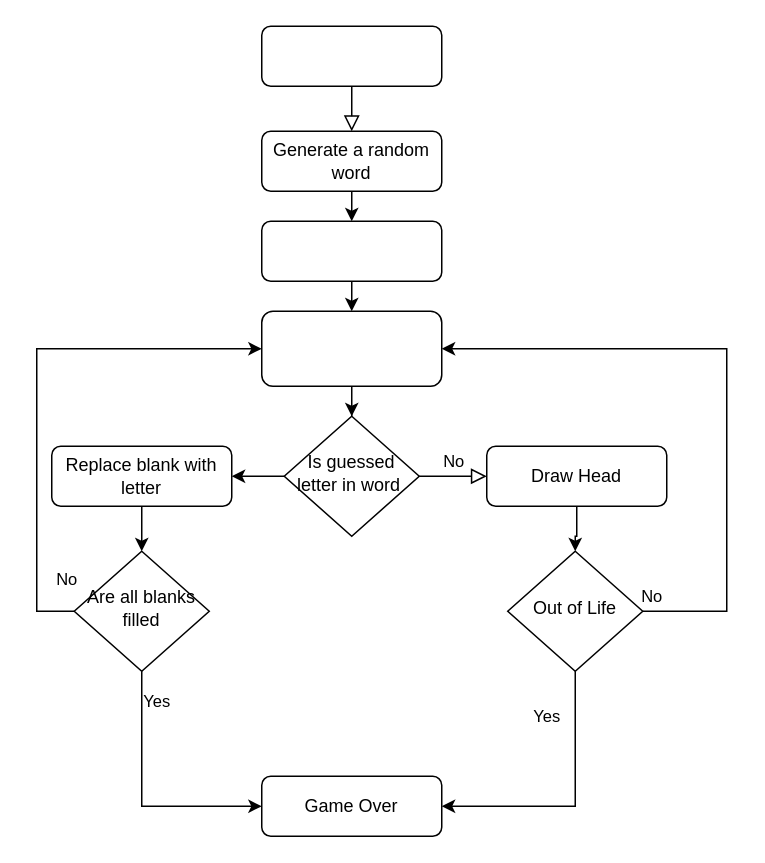
Some shapes in this 765 by 863 pixel diagram are drawn without their labels. Each missing label, with the centre of its shape:
"As User to enter the letter" goes at [351,348].
"Generate number of blank dash based on length of word" goes at [351,250].
"start" goes at [351,55].
